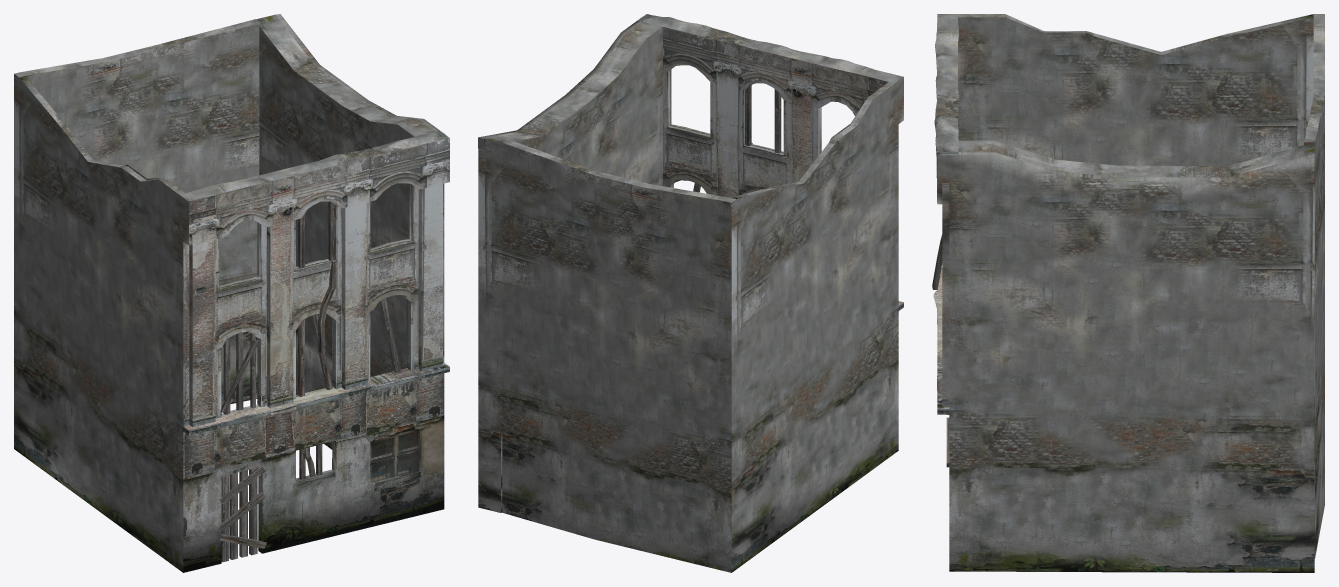
The model's file is war_torn4.obj.
3 renders of one model, left to right at view 1: azimuth 30°, elevation 25°; view 2: azimuth 150°, elevation 25°; view 3: azimuth 270°, elevation 25°, orthographic. The views are drawn at different scales.
Parts seen in each view (by area): view 1: worn_torn4; view 2: worn_torn4; view 3: worn_torn4.
Boxes of the visible parts, x1,y1,x2,y2 form: worn_torn4: (14, 14, 449, 572); worn_torn4: (478, 14, 903, 572); worn_torn4: (932, 14, 1324, 572).
Size of the model in its own units: 261 by 363 by 306.
Materials: 1 (1 with a texture image).
